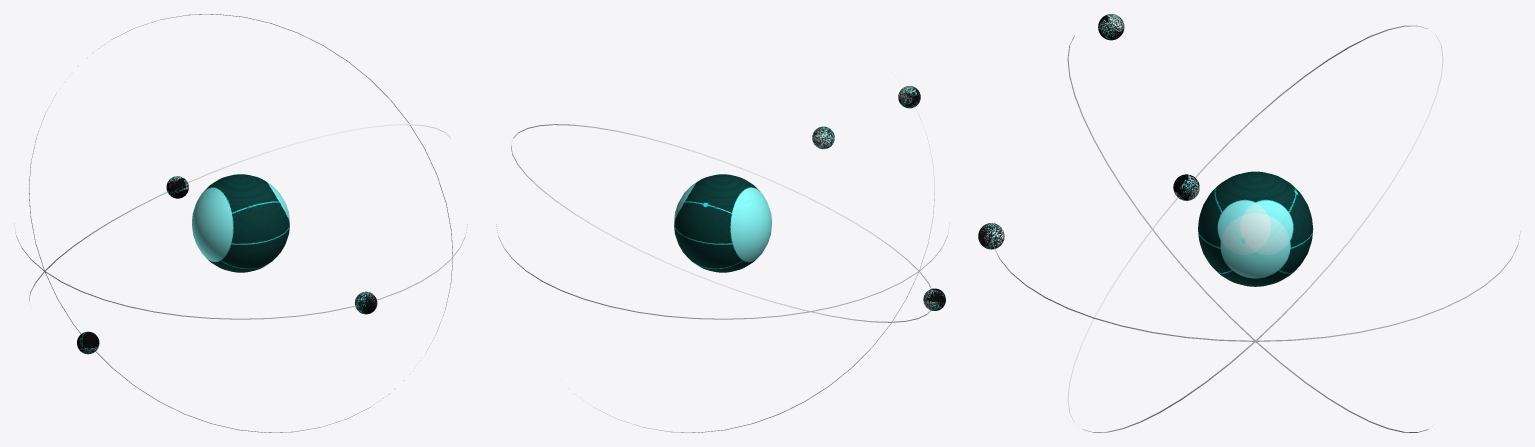
File: reactMesh.glb
3 renders of one model, left to right at view 1: azimuth 30°, elevation 25°; view 2: azimuth 150°, elevation 25°; view 3: azimuth 270°, elevation 25°, orthographic. The views are drawn at different scales.
Visible parts, largest first — view 1: central, b-path, a-path, c-path; view 2: central, b-path, a-path, c-path; view 3: central, b-path, a-path, c-path, a, b, c.
Boxes of the visible parts, bbox=[...] form: central: bbox=[192, 174, 289, 272]; b-path: bbox=[29, 14, 452, 432]; a-path: bbox=[14, 223, 467, 319]; c-path: bbox=[29, 124, 450, 301]; central: bbox=[674, 174, 771, 272]; b-path: bbox=[511, 124, 934, 322]; a-path: bbox=[496, 223, 949, 319]; c-path: bbox=[560, 106, 934, 432]; central: bbox=[1198, 171, 1313, 286]; b-path: bbox=[1067, 25, 1443, 432]; a-path: bbox=[992, 231, 1520, 341]; c-path: bbox=[1067, 35, 1428, 432]; a: bbox=[978, 223, 1004, 249]; b: bbox=[1173, 174, 1199, 200]; c: bbox=[1098, 14, 1124, 40].
Size of the model in its own units: 0.3174 by 0.225 by 0.3247.
Materials: 3 (2 with a texture image).
